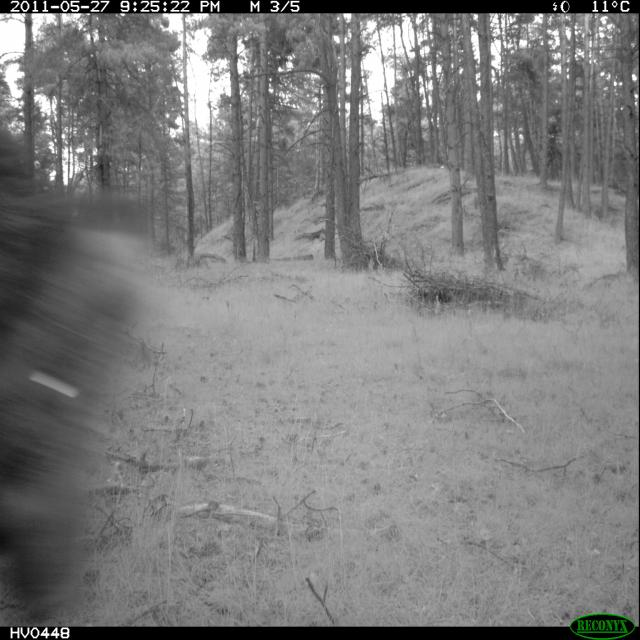boar: (0, 59, 172, 628)
